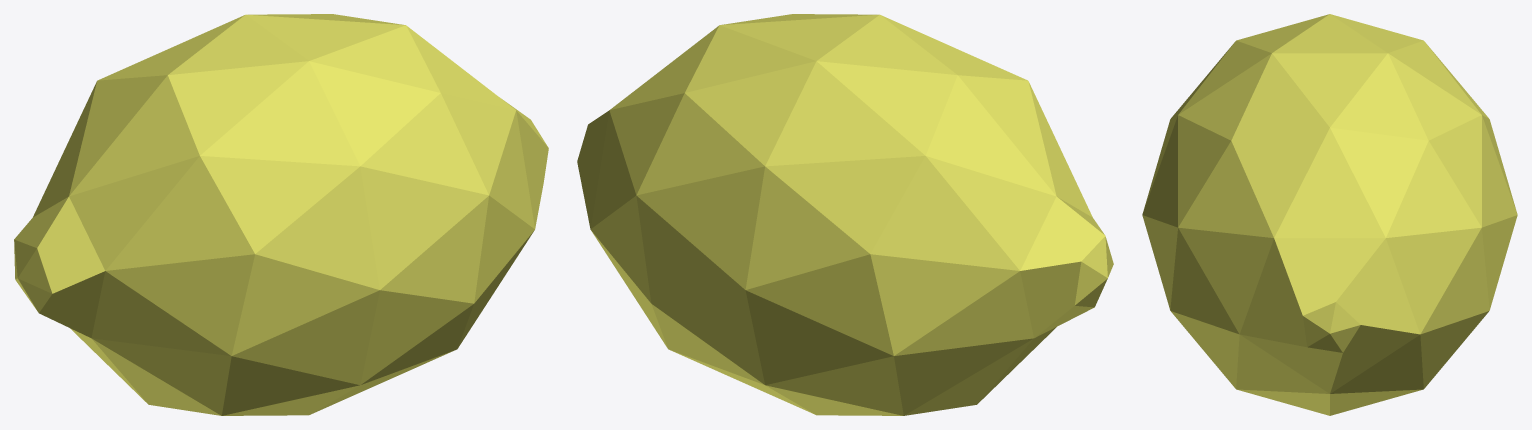
Rendered from Lemon.fbx.
3 renders of one model, left to right at view 1: azimuth 30°, elevation 25°; view 2: azimuth 150°, elevation 25°; view 3: azimuth 270°, elevation 25°, orthographic. The views are drawn at different scales.
Visible parts, largest first — view 1: Icosphere.002; view 2: Icosphere.002; view 3: Icosphere.002.
Boxes of the visible parts, bbox=[...] form: Icosphere.002: bbox=[14, 14, 548, 415]; Icosphere.002: bbox=[577, 14, 1113, 415]; Icosphere.002: bbox=[1142, 14, 1517, 415].
Bounding box in the file's own units: 17.02 × 10.95 × 11.52.
